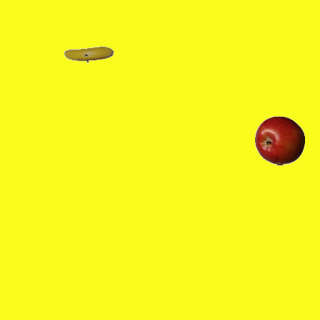Apple Braeburn: (254, 115, 304, 165)
Banana: (63, 29, 113, 79)
